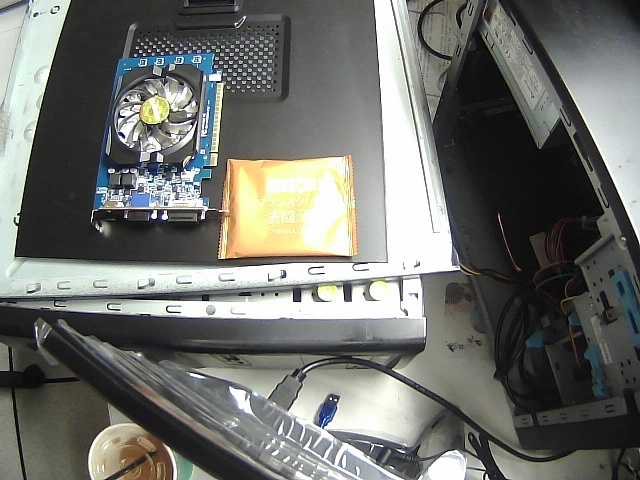frenchcookie: (211, 153, 370, 273)
